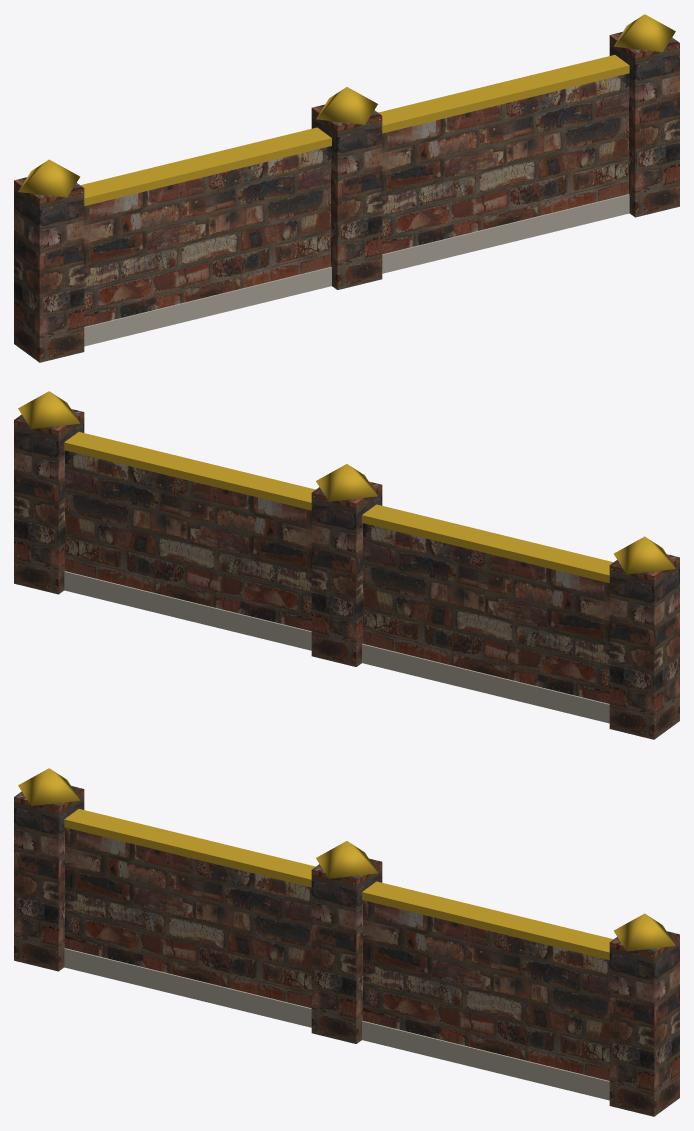
Rendered from pagar-bata.glb.
3 views of the same model, one above another, from view 1: azimuth 30°, elevation 25°; view 2: azimuth 150°, elevation 25°; view 3: azimuth 330°, elevation 25° (orthographic).
Visible parts, largest first — view 1: Dinding_Bata, Pilar, Lis_Emas, Plinth, Pilar.001, Pilar.002, Tutup_Pilar, Tutup_Pilar.001, Tutup_Pilar.002; view 2: Dinding_Bata, Pilar, Lis_Emas, Plinth, Pilar.001, Pilar.002, Tutup_Pilar, Tutup_Pilar.001, Tutup_Pilar.002; view 3: Dinding_Bata, Pilar.002, Lis_Emas, Plinth, Pilar.001, Pilar, Tutup_Pilar.002, Tutup_Pilar.001, Tutup_Pilar.
Boxes of the visible parts, left/top/right/bottom form: Dinding_Bata: left=84, top=73, right=628, bottom=326; Pilar: left=14, top=177, right=84, bottom=362; Lis_Emas: left=80, top=55, right=629, bottom=206; Plinth: left=84, top=194, right=629, bottom=346; Pilar.001: left=311, top=104, right=382, bottom=289; Pilar.002: left=609, top=32, right=679, bottom=217; Tutup_Pilar: left=18, top=159, right=79, bottom=197; Tutup_Pilar.001: left=316, top=87, right=377, bottom=124; Tutup_Pilar.002: left=614, top=14, right=675, bottom=52; Dinding_Bata: left=65, top=450, right=609, bottom=703; Pilar: left=609, top=554, right=679, bottom=739; Lis_Emas: left=64, top=432, right=613, bottom=583; Plinth: left=64, top=571, right=609, bottom=723; Pilar.001: left=311, top=481, right=382, bottom=666; Pilar.002: left=14, top=409, right=84, bottom=594; Tutup_Pilar: left=614, top=536, right=675, bottom=574; Tutup_Pilar.001: left=316, top=464, right=377, bottom=501; Tutup_Pilar.002: left=18, top=391, right=79, bottom=429; Dinding_Bata: left=65, top=827, right=609, bottom=1080; Pilar.002: left=609, top=931, right=679, bottom=1116; Lis_Emas: left=64, top=809, right=613, bottom=960; Plinth: left=64, top=948, right=609, bottom=1100; Pilar.001: left=311, top=858, right=382, bottom=1043; Pilar: left=14, top=786, right=84, bottom=971; Tutup_Pilar.002: left=614, top=913, right=675, bottom=951; Tutup_Pilar.001: left=316, top=841, right=377, bottom=878; Tutup_Pilar: left=18, top=768, right=79, bottom=806.
Size of the model in its own units: 4.42 by 1.21 by 0.42.
3 materials, 1 textured.
